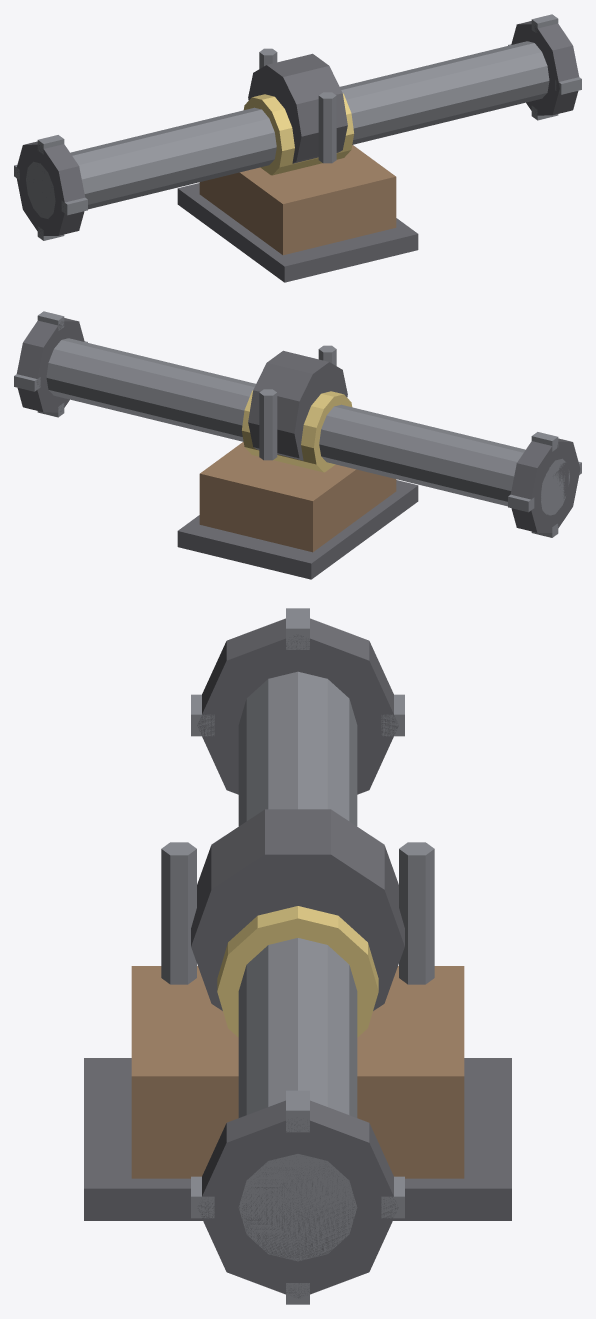
The model's file is drive_shaft.glb.
3 views of the same model, one above another, from view 1: azimuth 30°, elevation 25°; view 2: azimuth 150°, elevation 25°; view 3: azimuth 270°, elevation 25° (orthographic). The views are drawn at different scales.
Visible parts, largest first — view 1: Cylinder, Cube.008, Cube.009, Cylinder.004, Cylinder.001, Cylinder.002, Cylinder.003, Cylinder.005, Cube.002; view 2: Cylinder, Cube.008, Cube.009, Cylinder.004, Cylinder.001, Cylinder.002, Cylinder.003, Cylinder.006, Cube, Cube.004; view 3: Cylinder, Cube.008, Cylinder.002, Cylinder.004, Cube.009, Cylinder.001, Cylinder.003, Cylinder.005, Cylinder.006, Cube.005, Cube.001.
Part boxes in pixels (x1,y1,x2,y2): Cylinder: [26, 41, 549, 218]; Cube.008: [199, 145, 396, 255]; Cube.009: [177, 183, 418, 282]; Cylinder.004: [248, 53, 347, 163]; Cylinder.001: [15, 141, 85, 235]; Cylinder.002: [511, 21, 579, 115]; Cylinder.003: [243, 93, 354, 175]; Cylinder.005: [318, 92, 336, 163]; Cube.002: [61, 197, 87, 215]; Cylinder: [46, 338, 569, 515]; Cube.008: [199, 442, 396, 552]; Cube.009: [177, 480, 418, 579]; Cylinder.004: [248, 350, 347, 460]; Cylinder.001: [510, 438, 580, 532]; Cylinder.002: [16, 318, 84, 412]; Cylinder.003: [241, 390, 352, 472]; Cylinder.006: [259, 389, 277, 460]; Cube: [508, 494, 534, 512]; Cube.004: [14, 374, 40, 391]; Cylinder: [238, 671, 357, 1261]; Cube.008: [131, 966, 464, 1178]; Cylinder.002: [197, 1100, 398, 1298]; Cylinder.004: [191, 809, 404, 1010]; Cube.009: [84, 1058, 511, 1220]; Cylinder.001: [197, 618, 398, 794]; Cylinder.003: [217, 906, 378, 1037]; Cylinder.005: [161, 842, 196, 984]; Cylinder.006: [399, 842, 434, 984]; Cube.005: [286, 1090, 309, 1132]; Cube.001: [286, 608, 309, 649].
Size of the model in its own units: 1 by 0.3006 by 0.36.
